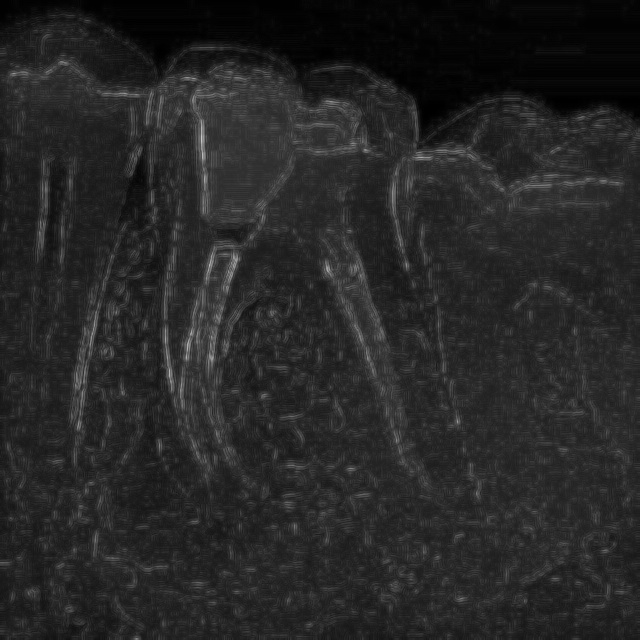Class 0- No endodontic treatment: (126, 202, 516, 554)
